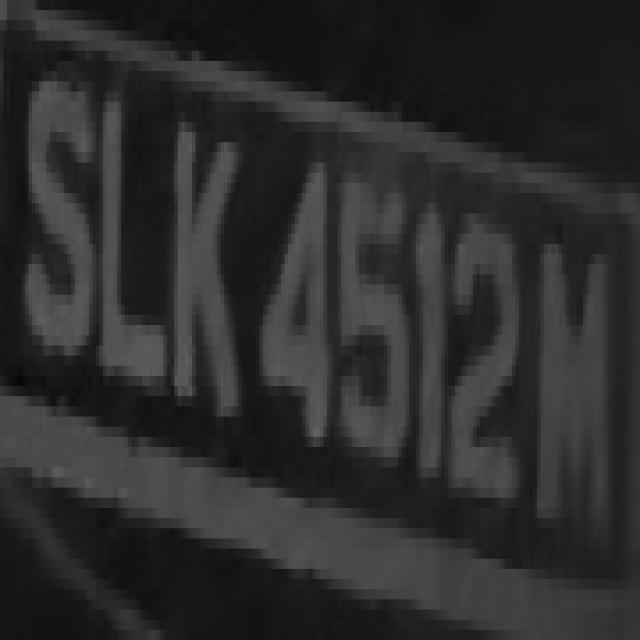1: (416, 152, 455, 559)
2: (452, 152, 522, 569)
4: (249, 142, 334, 498)
5: (334, 142, 412, 508)
K: (174, 102, 246, 457)
L: (96, 71, 164, 417)
M: (526, 193, 619, 579)
S: (25, 31, 96, 396)
